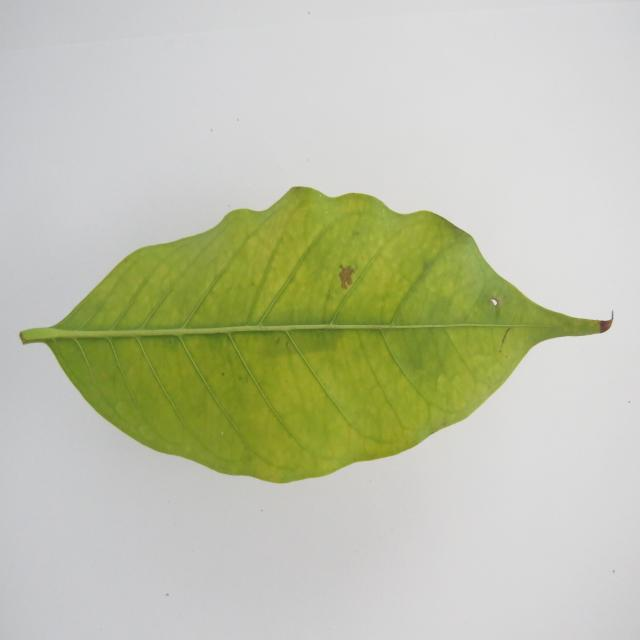DeficienciaNutricional-Calcio: (20, 187, 612, 483)
